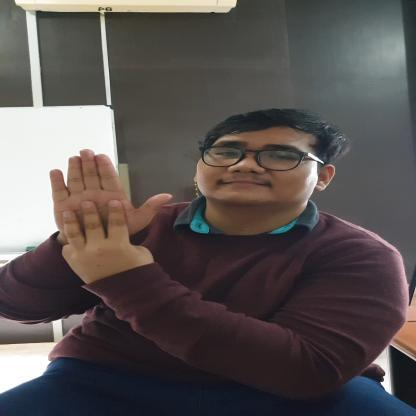M: (46, 147, 175, 263)
